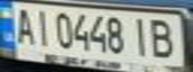0: (51, 8, 75, 50)
4: (87, 11, 109, 54), (69, 10, 90, 52)
8: (106, 13, 130, 55)
A: (9, 4, 39, 45)
B: (145, 16, 184, 60)
I: (127, 15, 154, 57), (30, 6, 54, 47)
